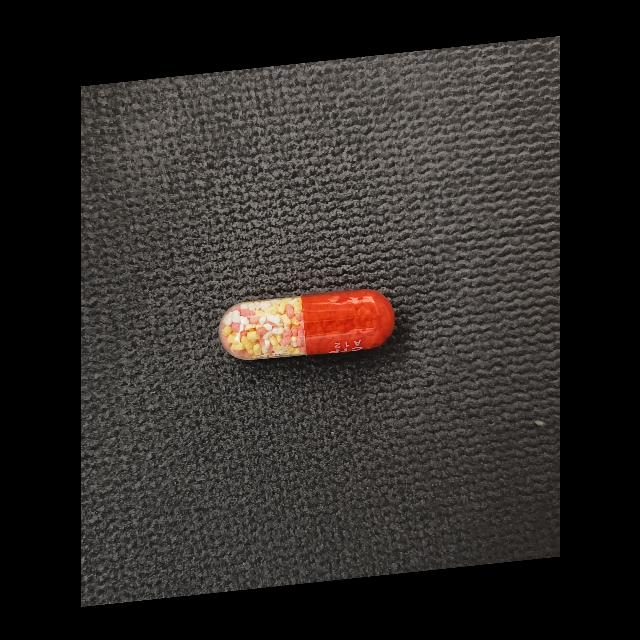Intact Capsule: (218, 289, 394, 360)
